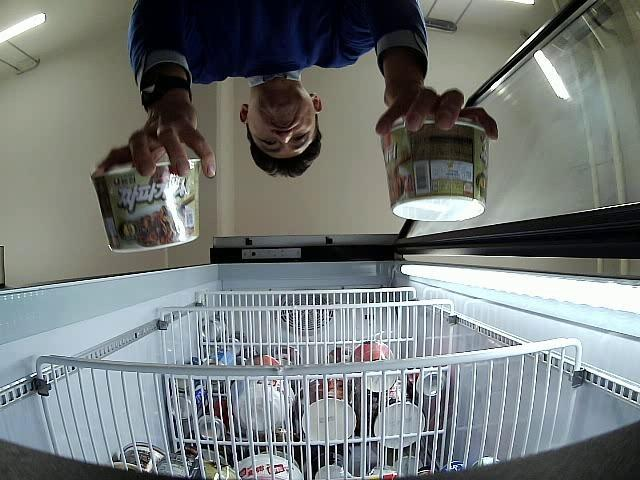03_chapagetti_L: (380, 120, 490, 221), (92, 160, 202, 254)
